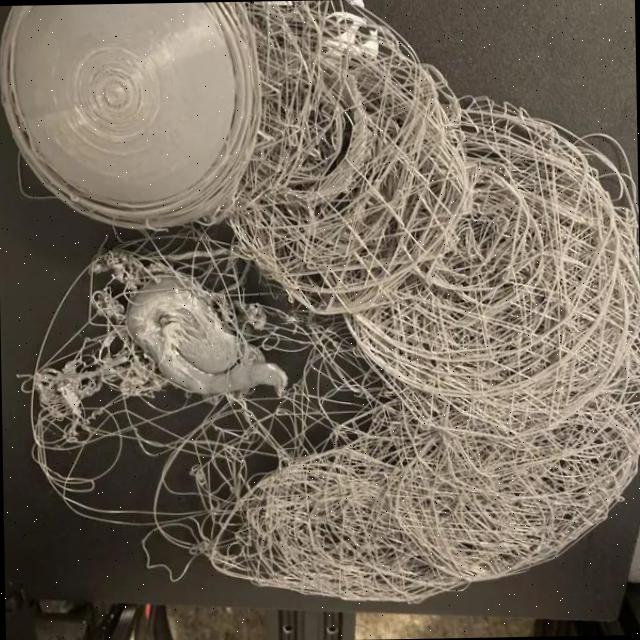spaghetti: (424, 180, 634, 369), (234, 442, 449, 600), (275, 130, 474, 289), (455, 396, 599, 552), (234, 28, 346, 200), (28, 332, 154, 443), (223, 388, 354, 464), (275, 298, 377, 389), (154, 454, 234, 568), (170, 239, 258, 309)
